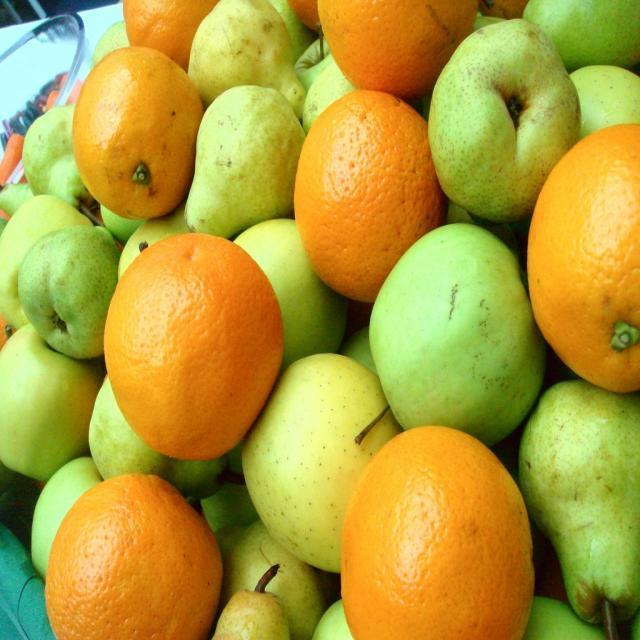Orange: (103, 229, 285, 457), (342, 429, 530, 634), (287, 86, 439, 308), (45, 473, 231, 639), (523, 124, 640, 382), (73, 47, 198, 219), (316, 0, 480, 96)
